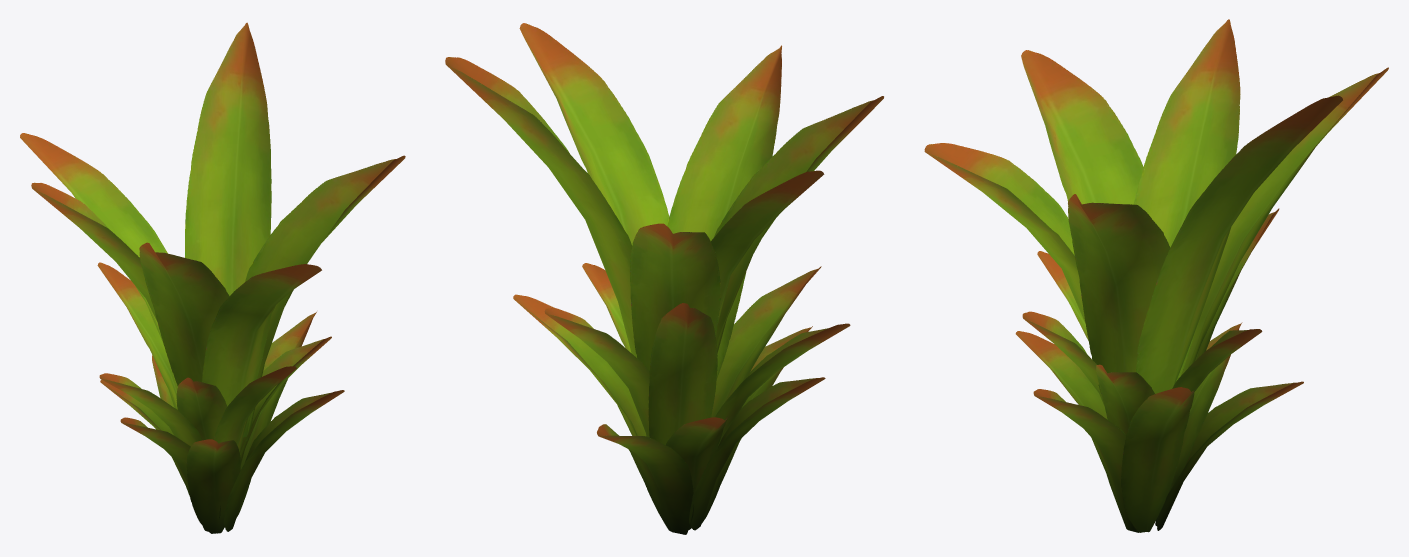
The model's file is Plant_1_Big.gltf.
3 renders of one model, left to right at view 1: azimuth 30°, elevation 25°; view 2: azimuth 150°, elevation 25°; view 3: azimuth 270°, elevation 25°, orthographic. The views are drawn at different scales.
Parts seen in each view (by area): view 1: Plant_1_Big; view 2: Plant_1_Big; view 3: Plant_1_Big.
Part boxes in pixels (x1,y1,x2,y2): Plant_1_Big: (20, 22, 405, 533); Plant_1_Big: (445, 23, 883, 534); Plant_1_Big: (924, 19, 1388, 532).
Size of the model in its own units: 1.81 by 2.35 by 1.95.
1 material, 1 textured.
